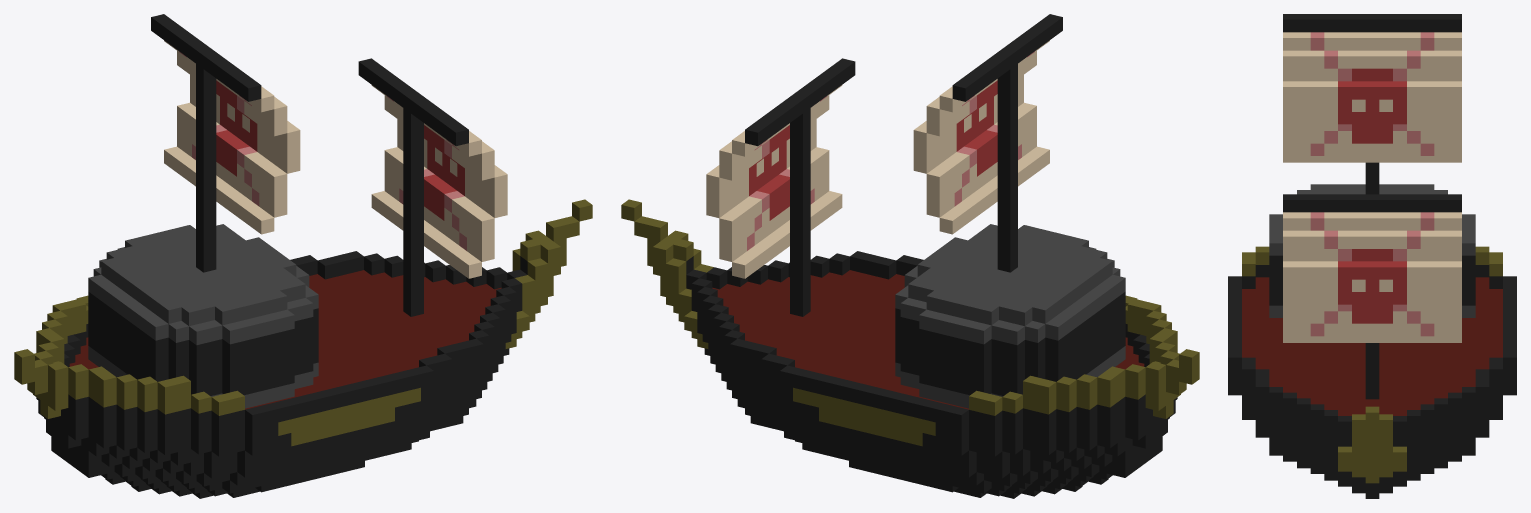
Rendered from pirate ship 1(보스).obj.
The picture shows the model from 3 angles, left to right: view 1: azimuth 30°, elevation 25°; view 2: azimuth 150°, elevation 25°; view 3: azimuth 270°, elevation 25°; orthographic projection. The views are drawn at different scales.
Size of the model in its own units: 4.4 by 3.1 by 2.1.
